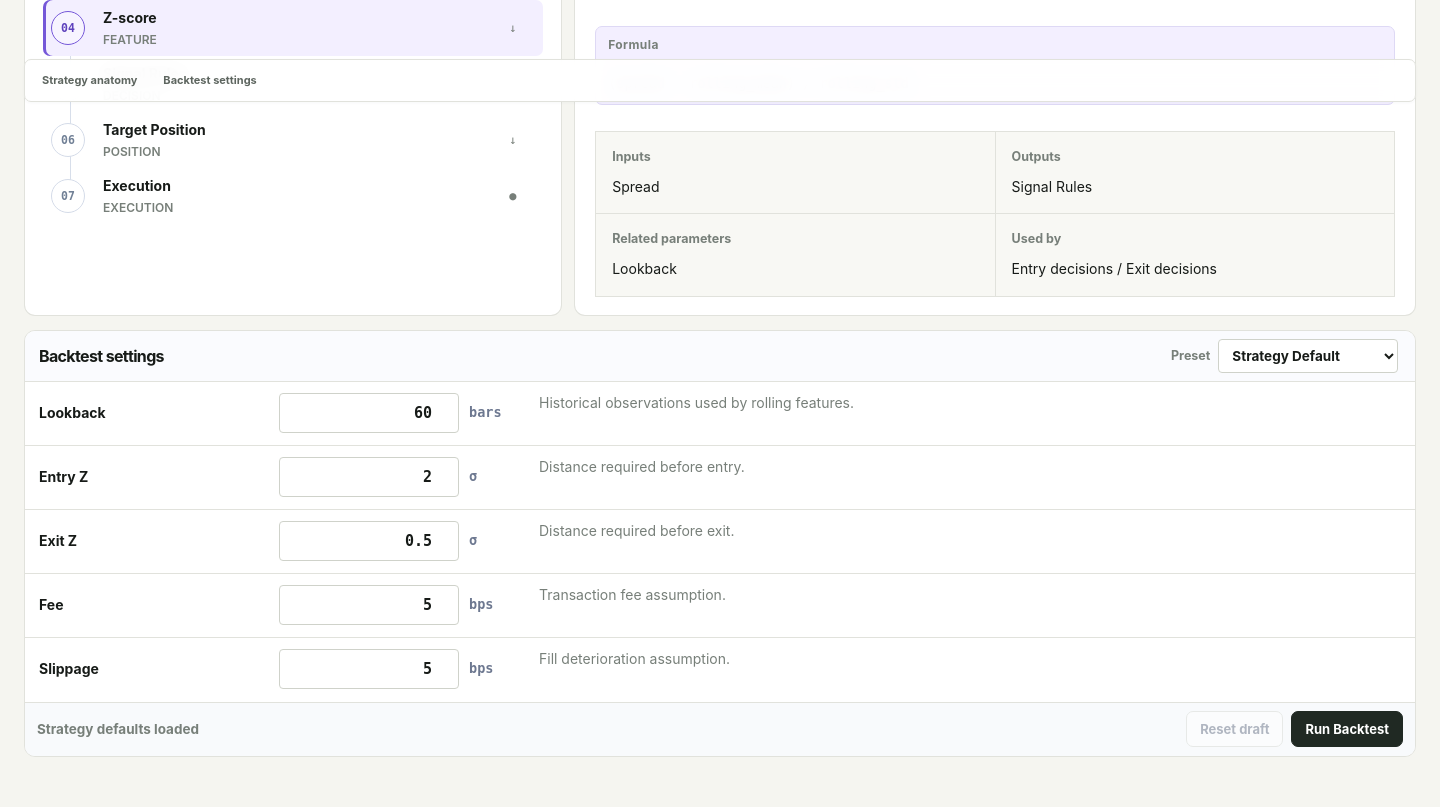
Test case: blocks invalid parameters and shows specific validation errors
(page scrolled)
Step 1. Replace the text in the number field labelled "Fee" with "-1" → (369, 605), box [279,585,459,625]
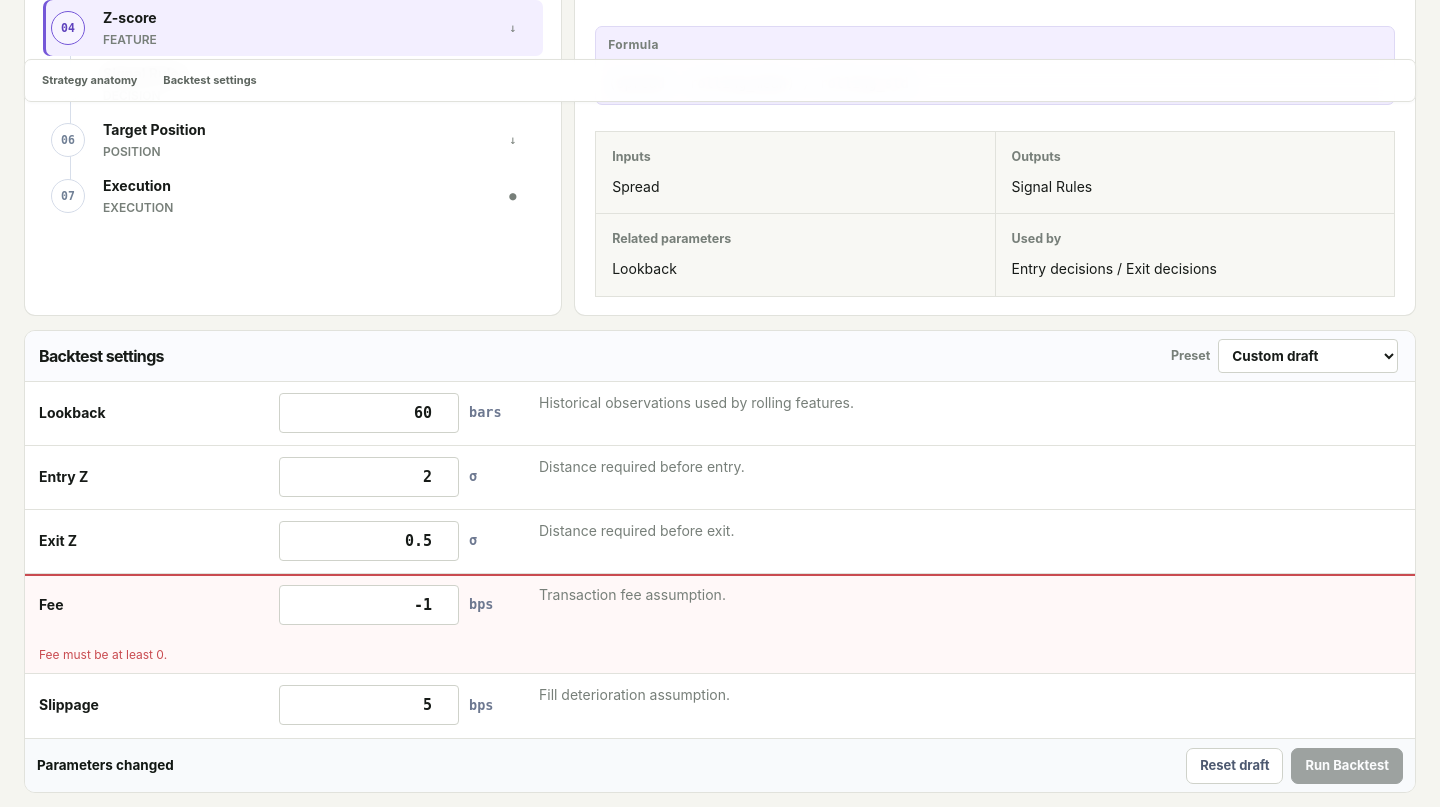
expect the text "Fee must be at least 0." is shown: met, box [39,647,167,662]
expect the button "Run Backtest" is disabled: met, box [1291,748,1403,784]
Step 2. Replace the text in the number field labelled "Fee" with "5" → (369, 605), box [279,585,459,625]
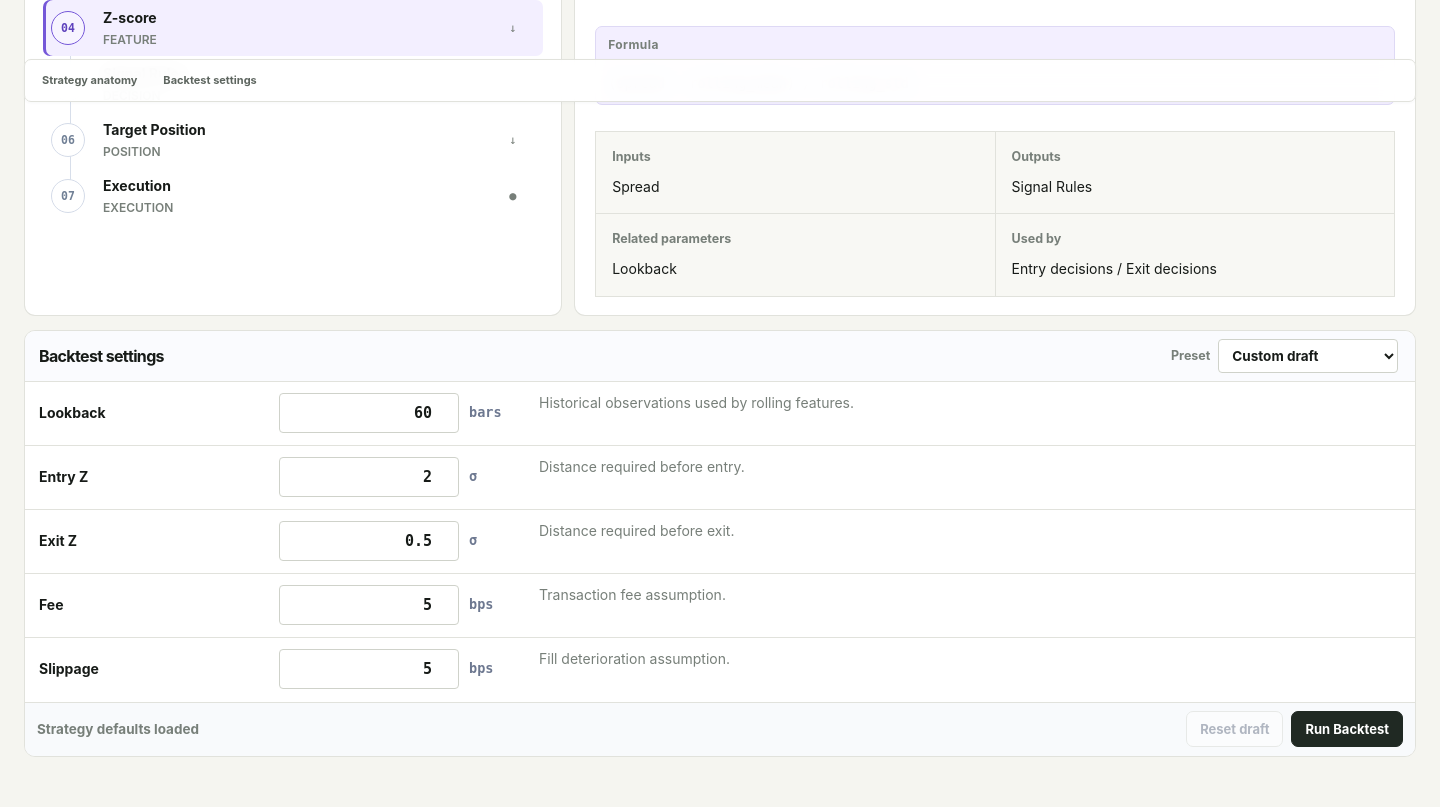
Step 3. Replace the text in the number field labelled "Lookback" with "1" → (369, 413), box [279,393,459,433]
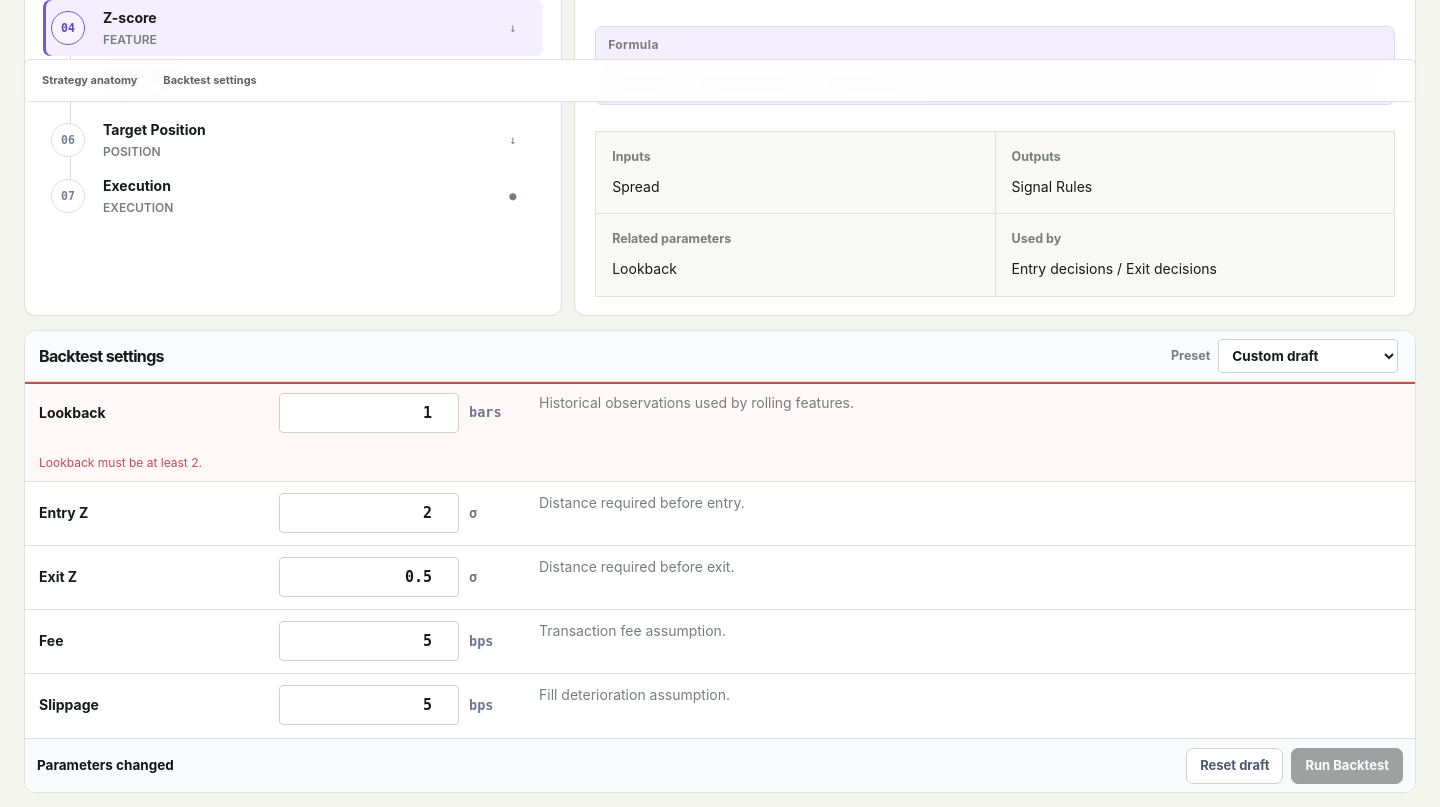
expect the text "Lookback must be at least 2." is shown: met, box [39,455,202,470]
Step 4. Replace the text in the number field labelled "Lookback" with "10" → (369, 413), box [279,393,459,433]
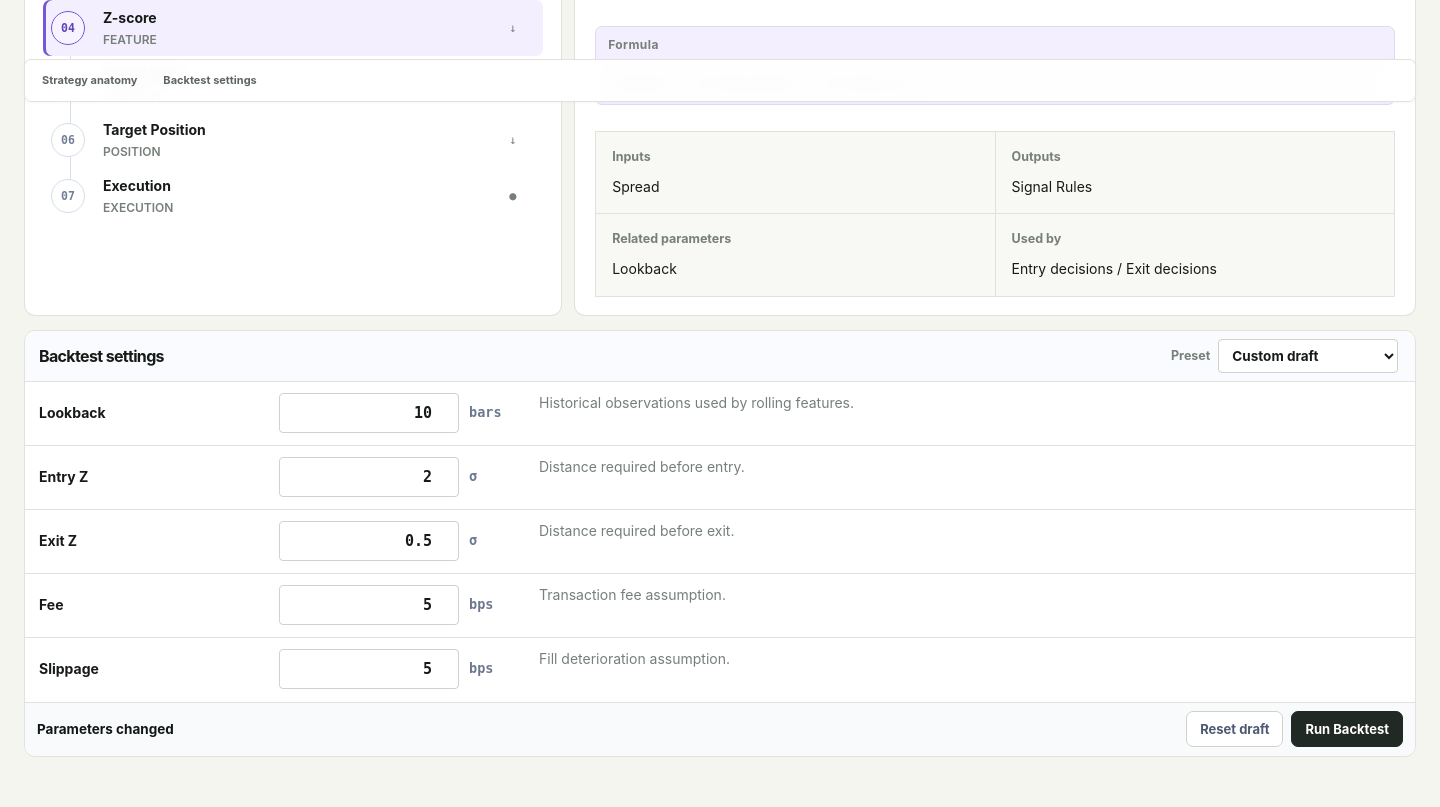
Step 5. Replace the text in the number field labelled "Exit Z" with "2" → (369, 541), box [279,521,459,561]
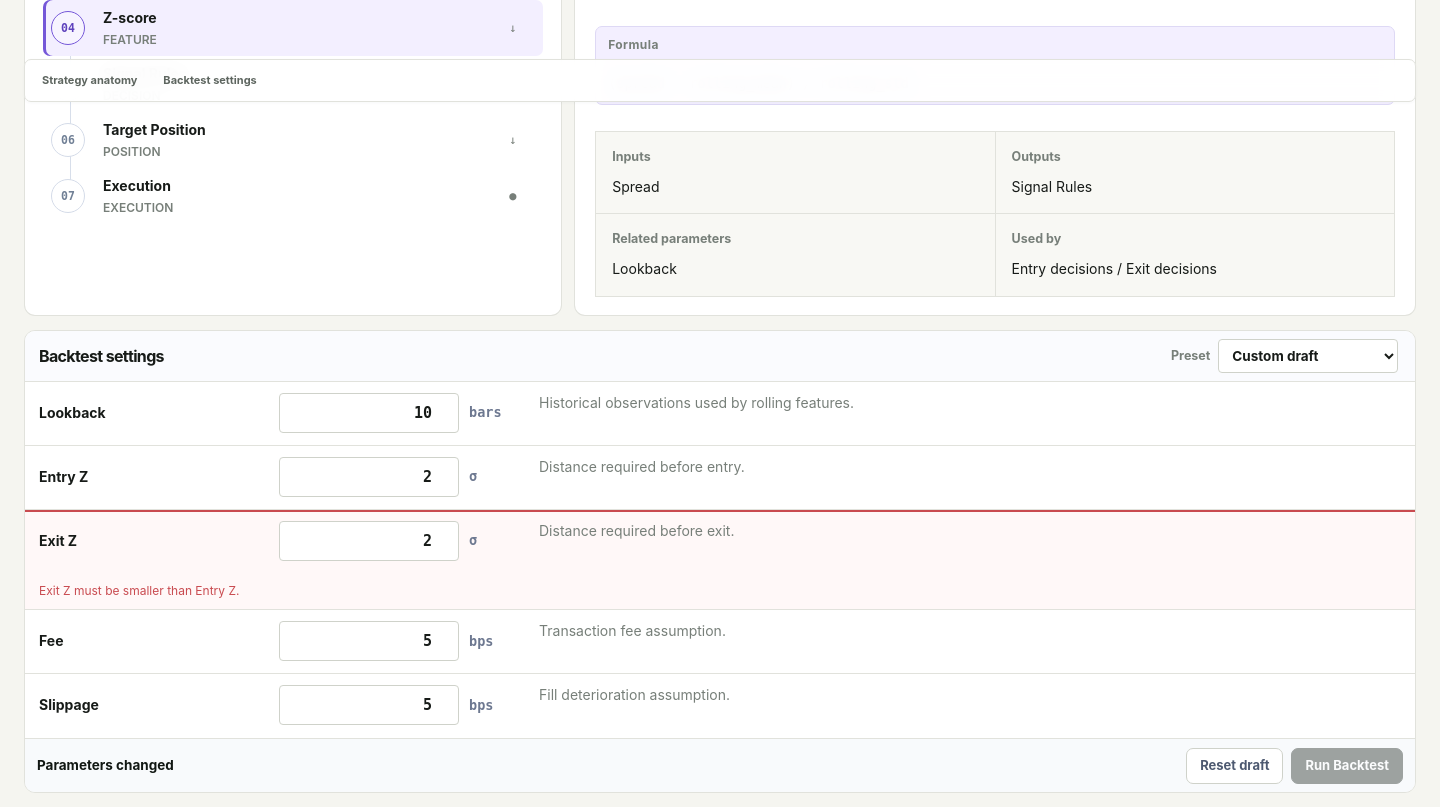
expect the text "Exit Z must be smaller than Entry Z." is shown: met, box [39,582,259,599]
